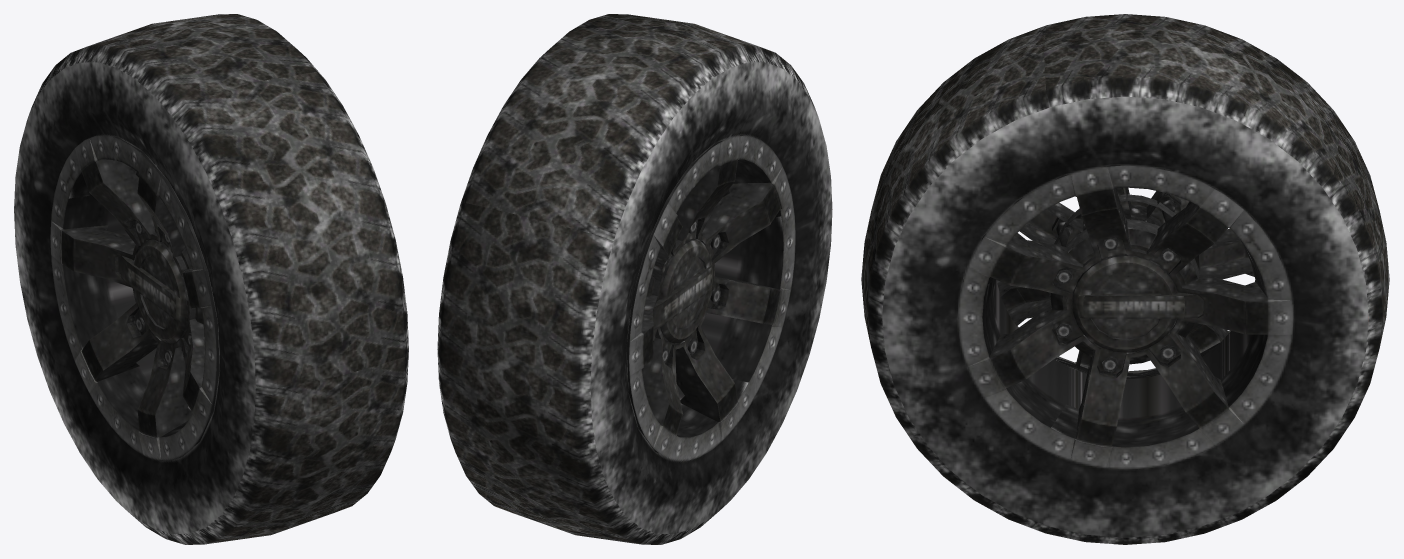
File: humvee_wheel.obj
3 views of the same model, side by side, from view 1: azimuth 30°, elevation 25°; view 2: azimuth 150°, elevation 25°; view 3: azimuth 270°, elevation 25° (orthographic).
Parts seen in each view (by area): view 1: hhx_highlod.001; view 2: hhx_highlod.001; view 3: hhx_highlod.001.
Boxes of the visible parts, x1,y1,x2,y2 form: hhx_highlod.001: (14,14,408,544); hhx_highlod.001: (437,14,832,544); hhx_highlod.001: (861,14,1389,544).
Bounding box in the file's own units: 0.72 × 2 × 2.
3 materials, 3 textured.
